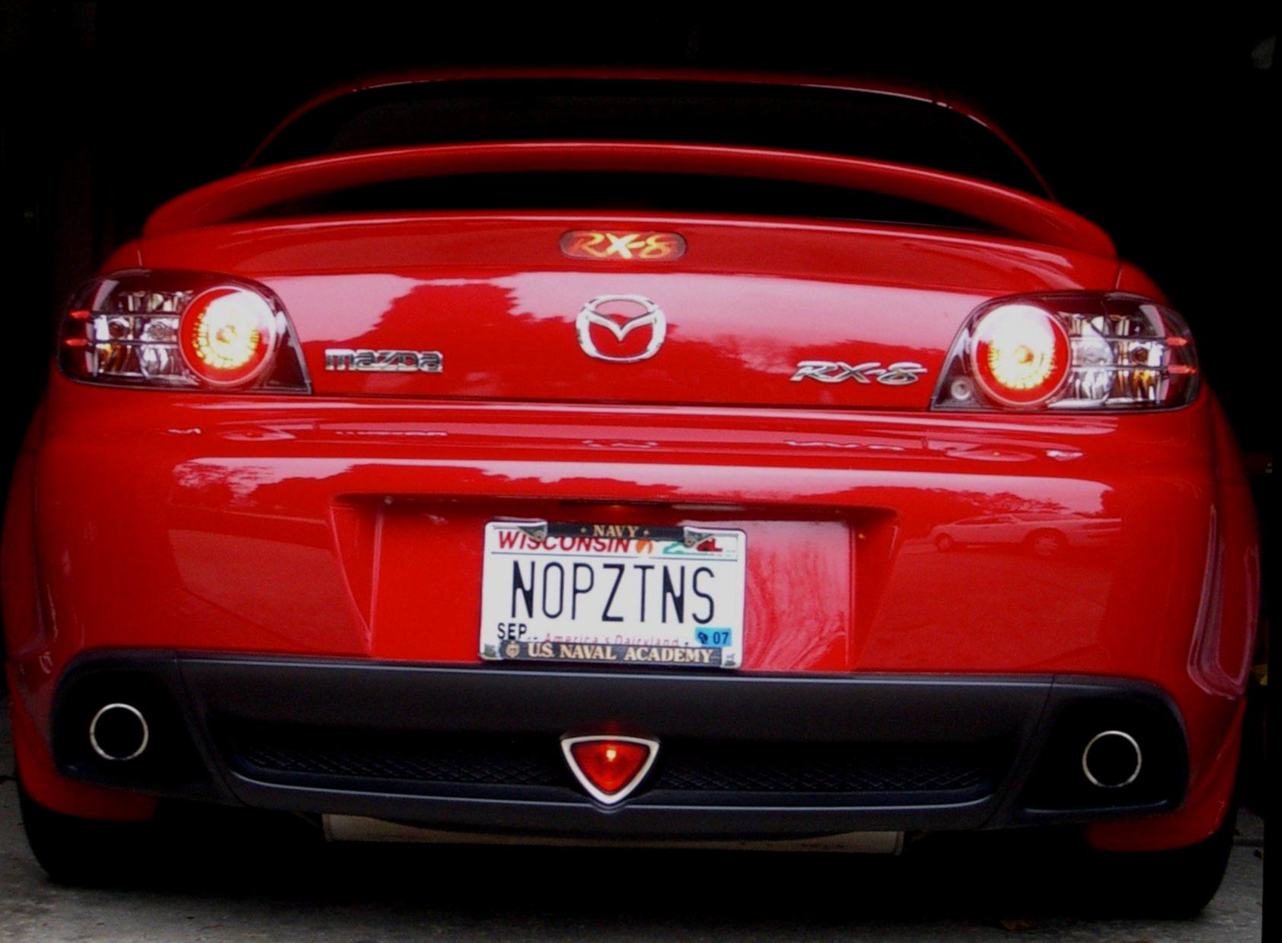License_Plate: (465, 505, 775, 696)
